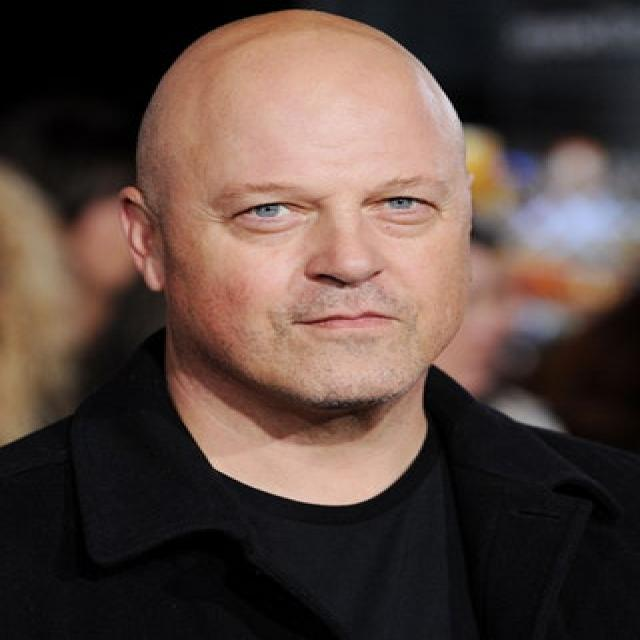bald: (110, 2, 494, 210)
